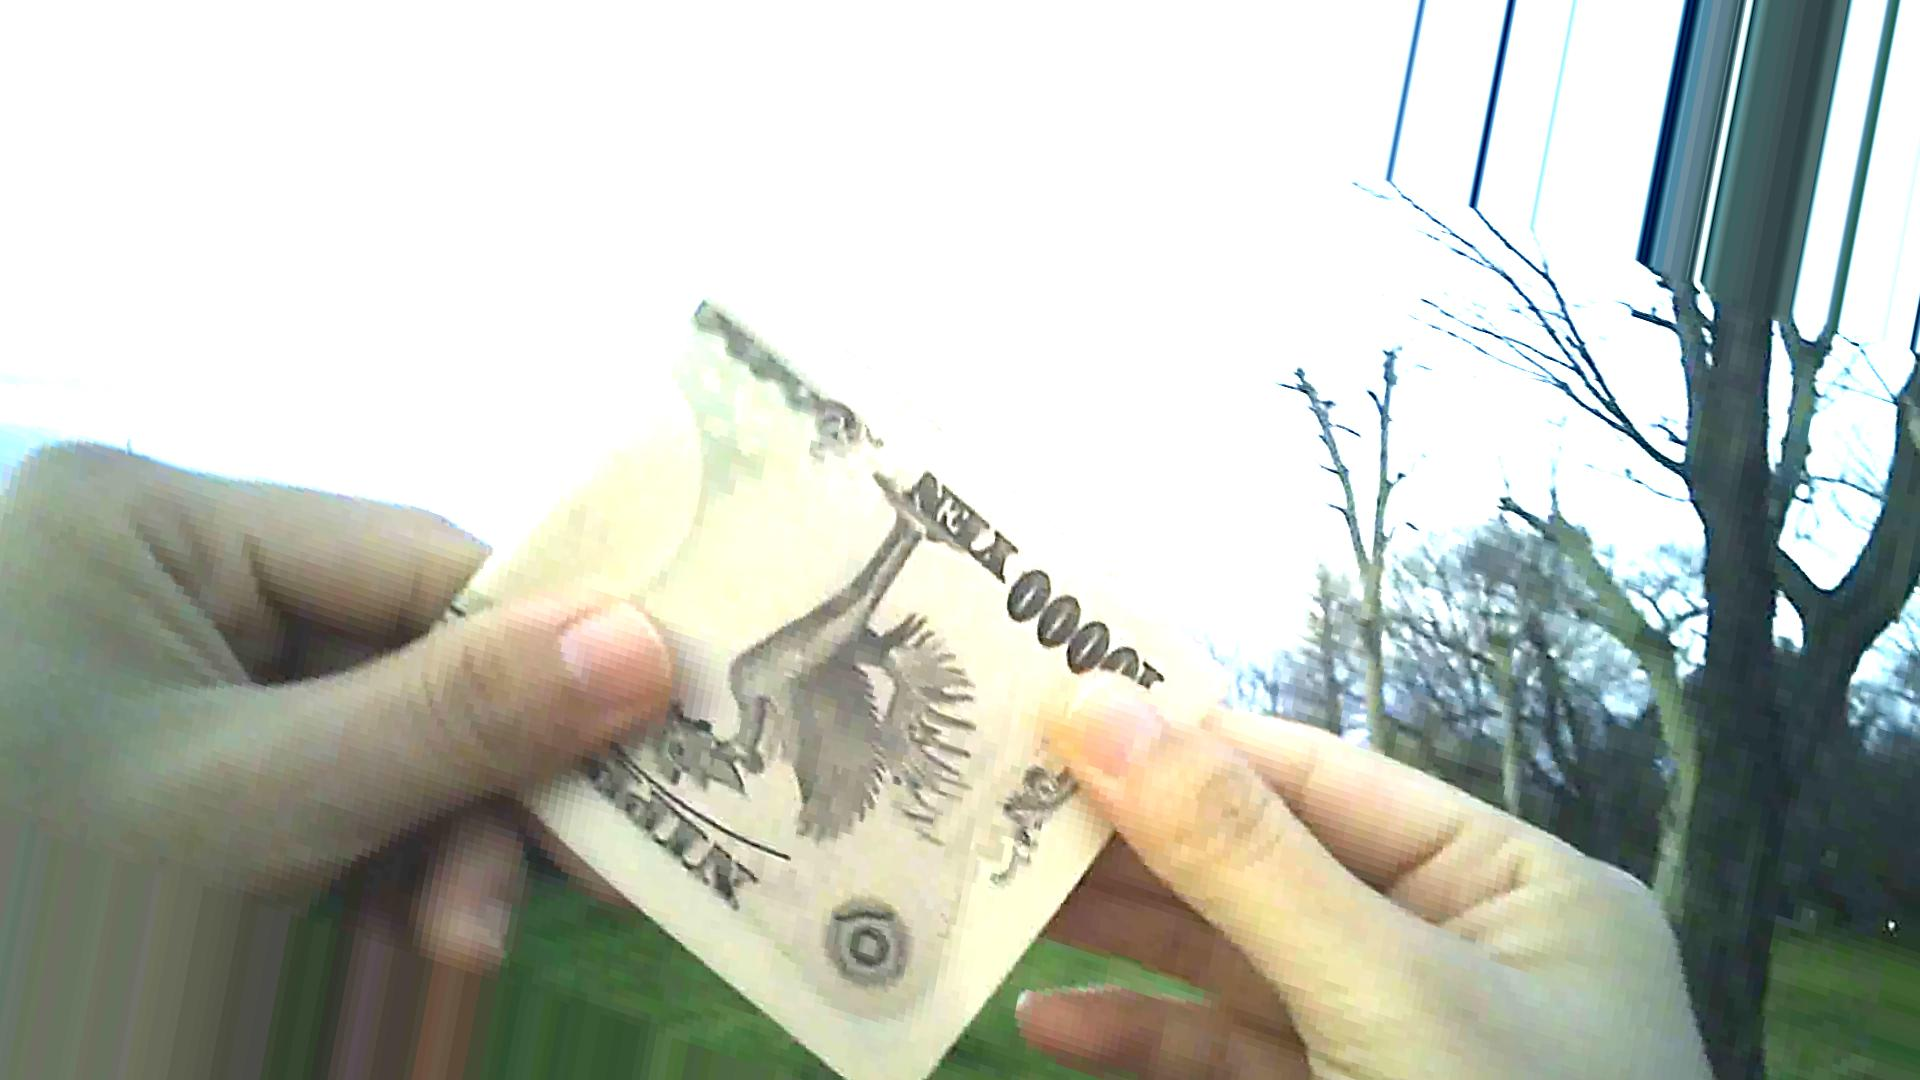10,000 Yen: (419, 284, 1175, 1030)
